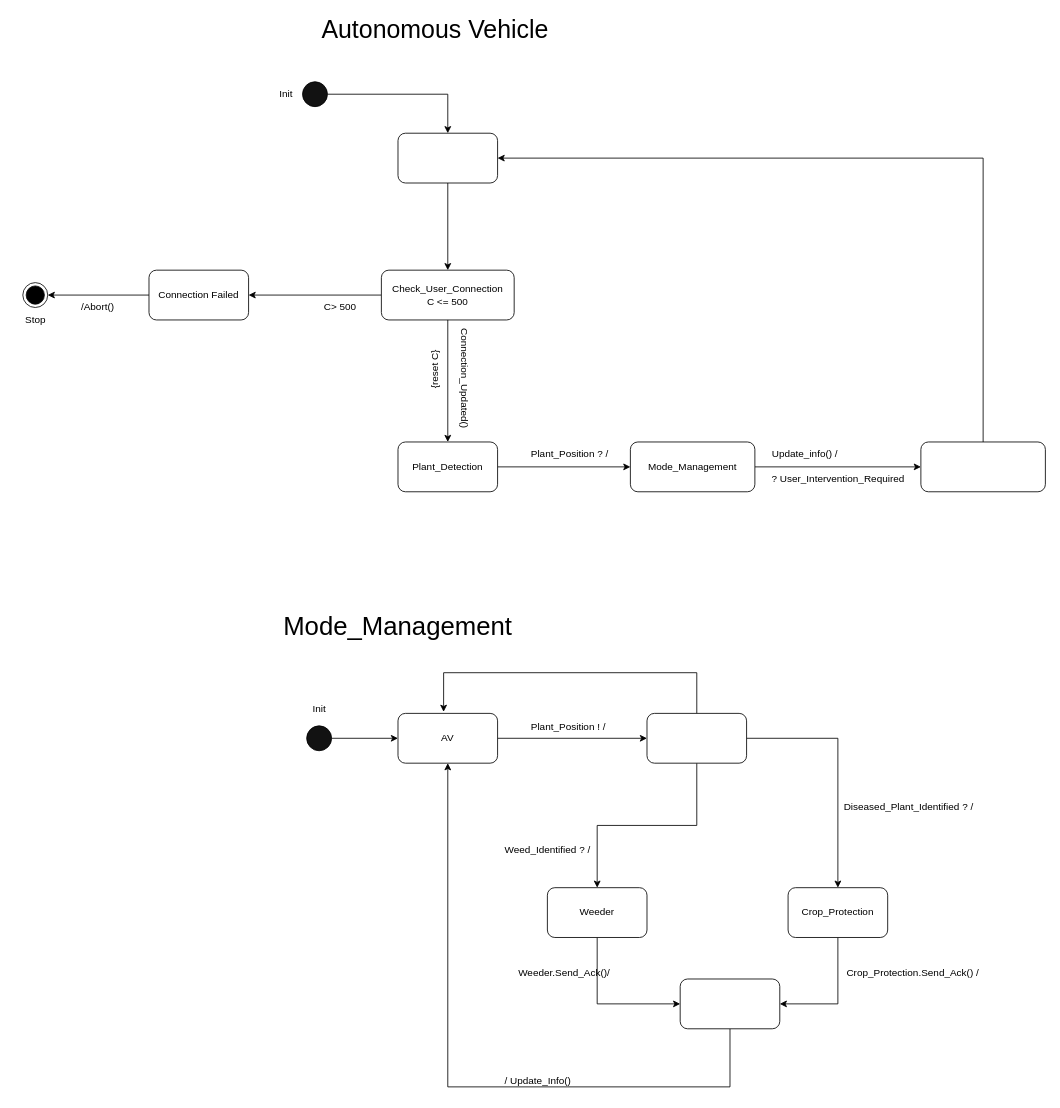
This 1060x1108 diagram has some shape labels left out. Each missing label, with the box of its shape:
Idle: (397, 132, 498, 183)
Plant_Observer: (646, 713, 747, 763)
Receive_Ack: (679, 978, 780, 1029)
User_Information_Update: (920, 441, 1045, 492)
